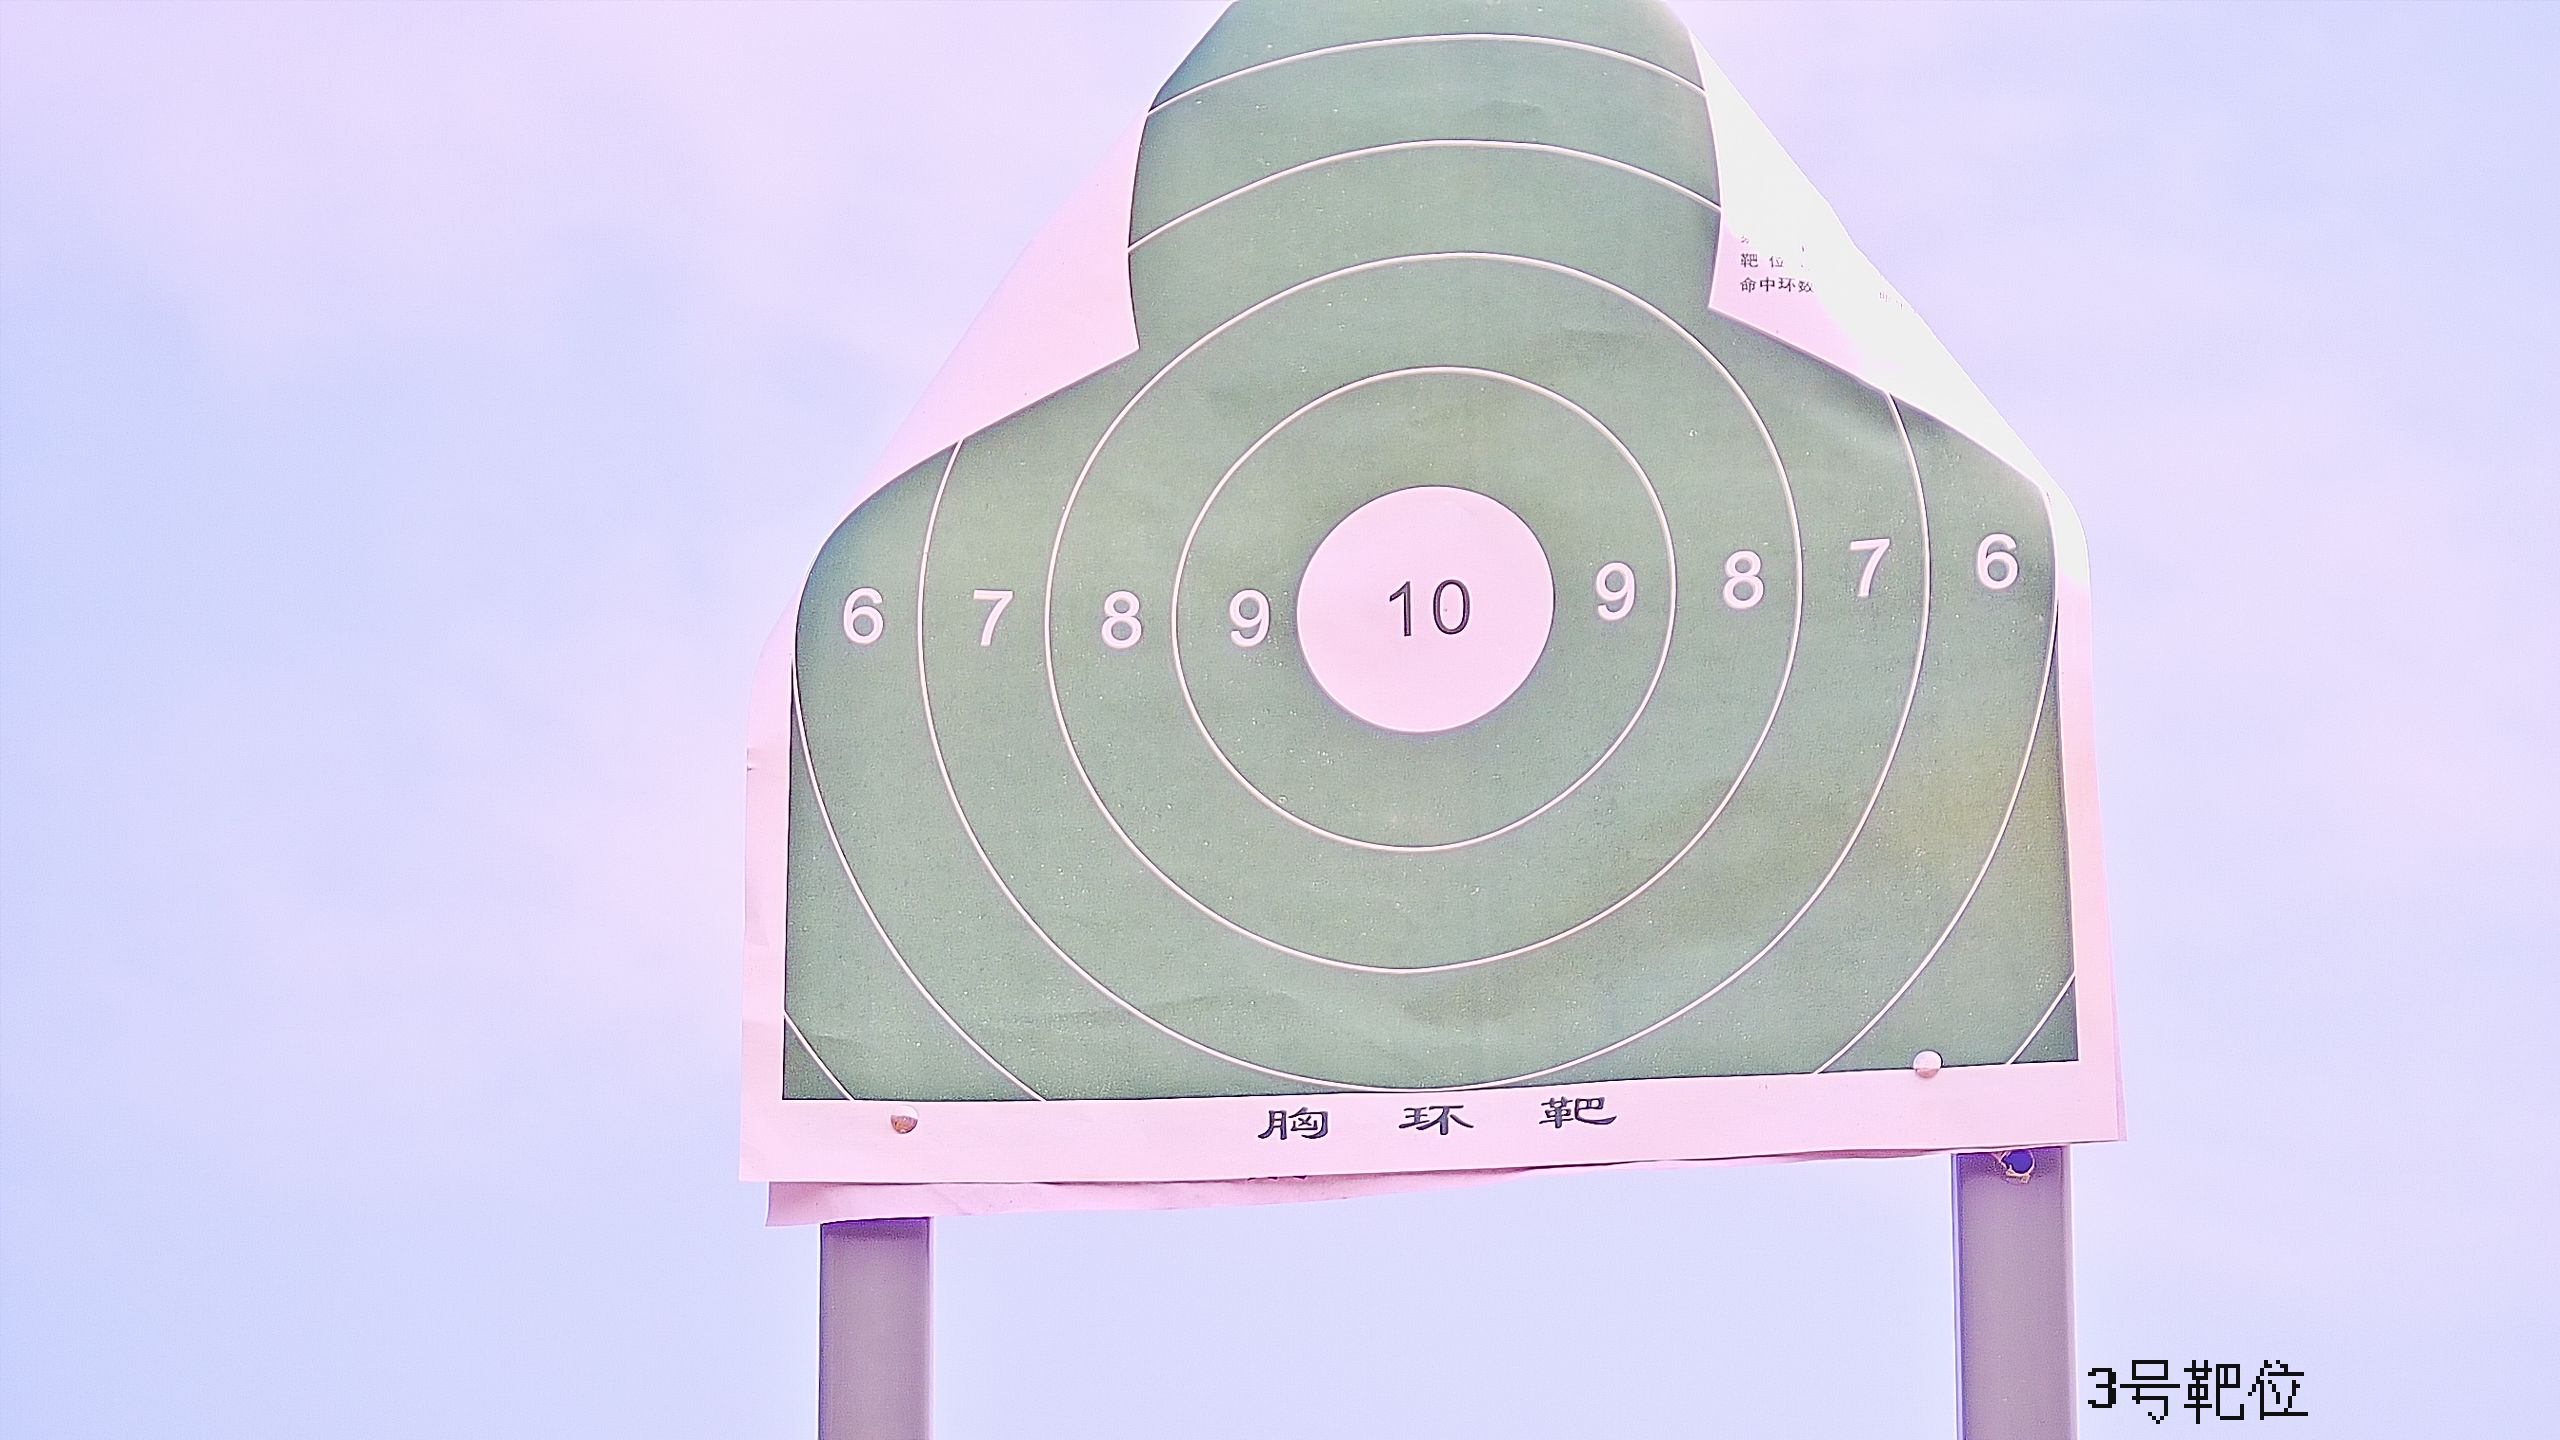kernel: (1417, 607, 1424, 612)
target: (781, 5, 2084, 1102)
ten: (1292, 485, 1556, 737)
